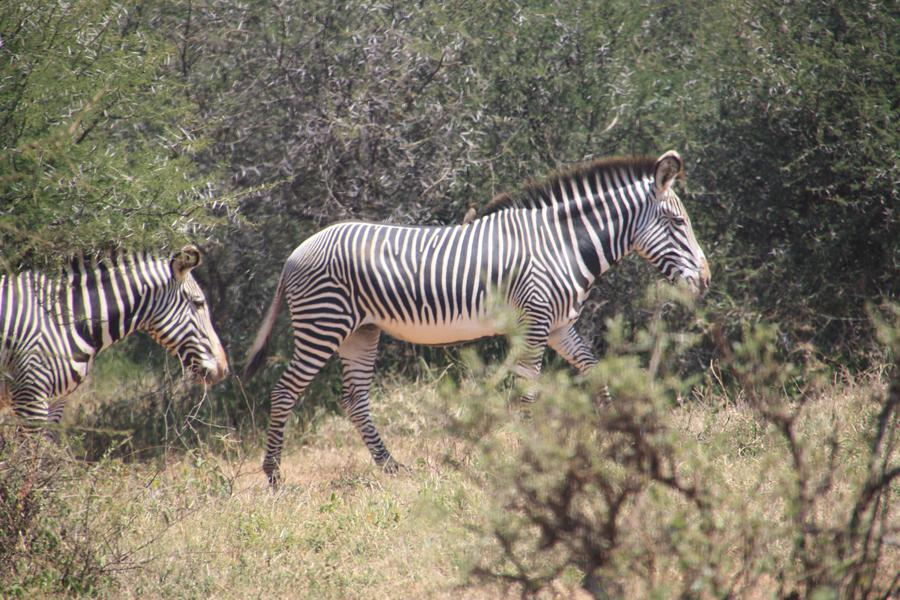zebra_grevys: (282, 208, 562, 333)
